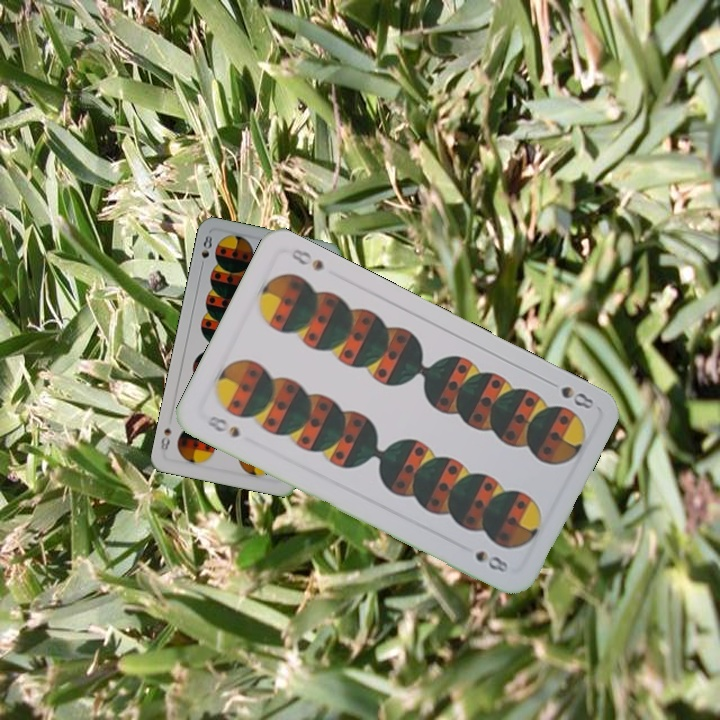S8: (542, 375, 598, 412), (202, 411, 243, 441), (197, 232, 215, 271)
